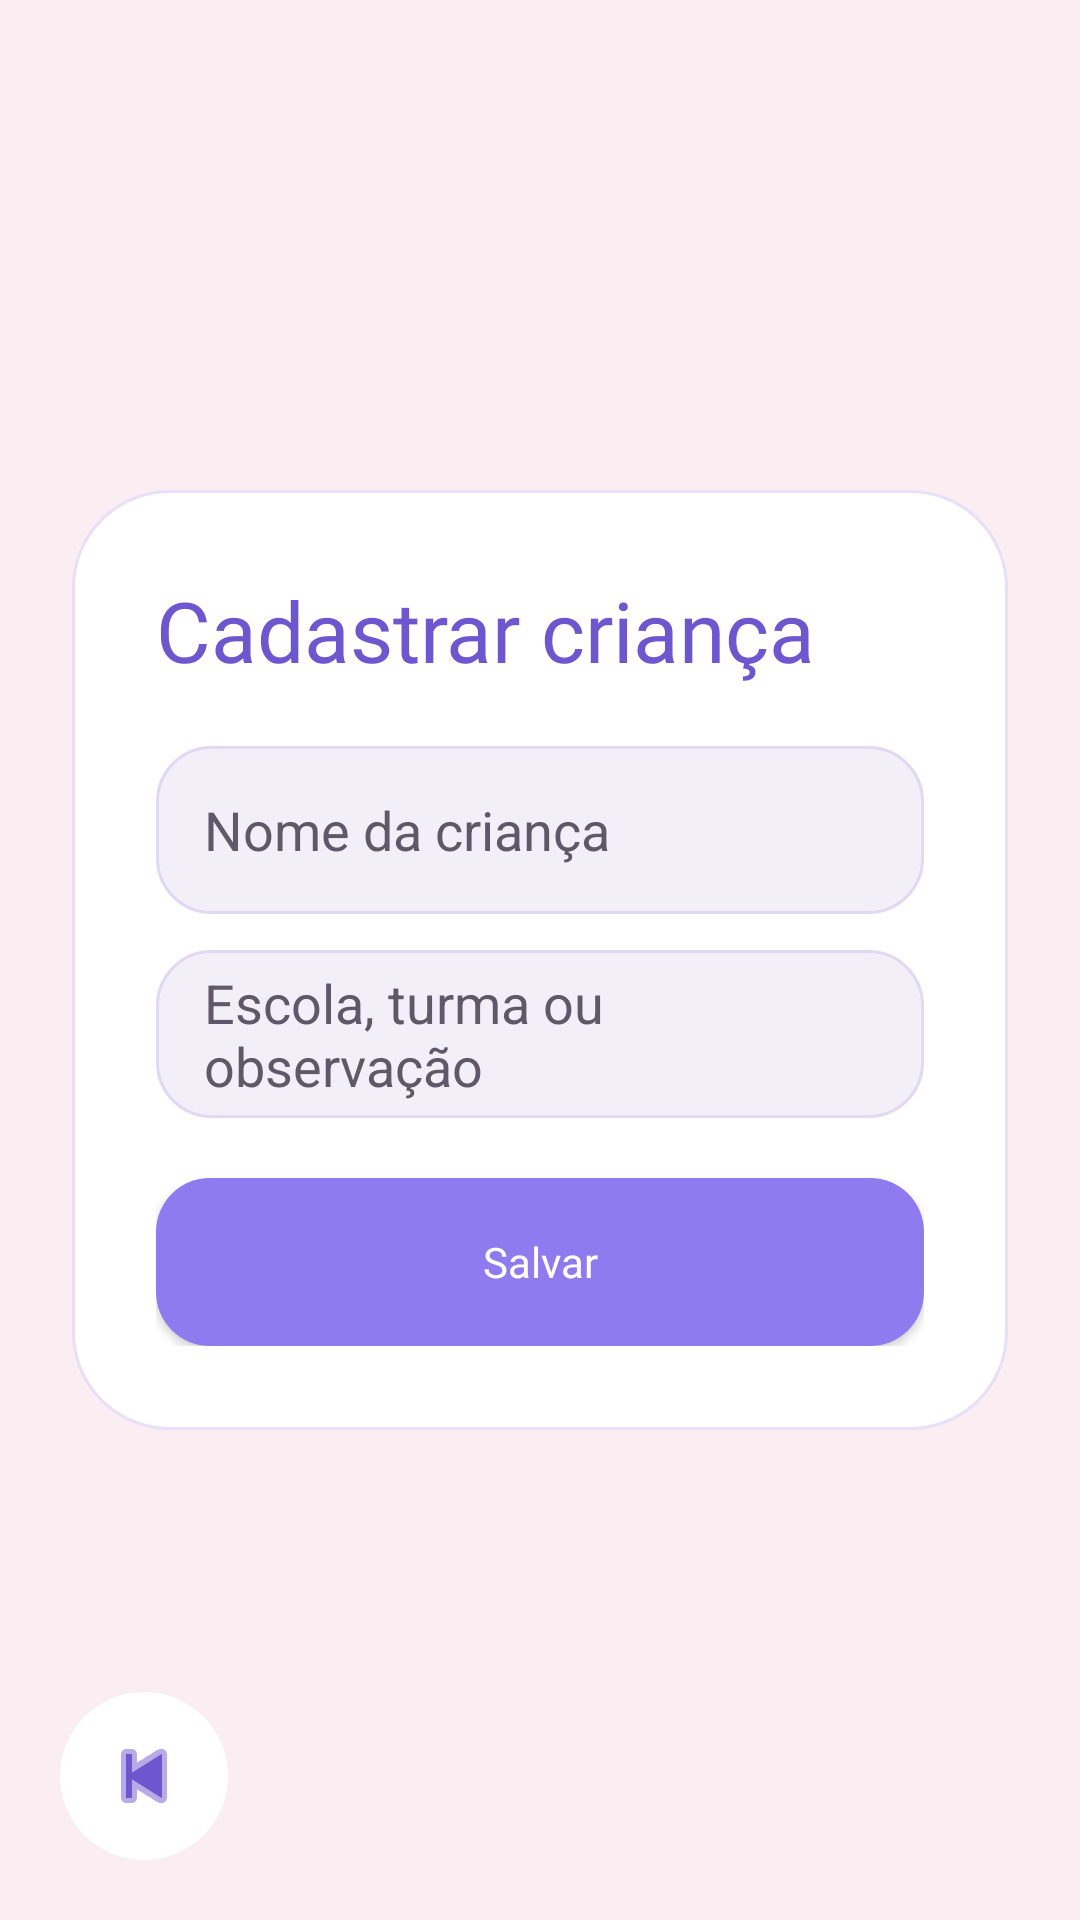

Icons on this 1080px×1920px Android screen, each with its box as box=[x1, y1, x2, y2]:
previous: box=[121, 1749, 167, 1803]
